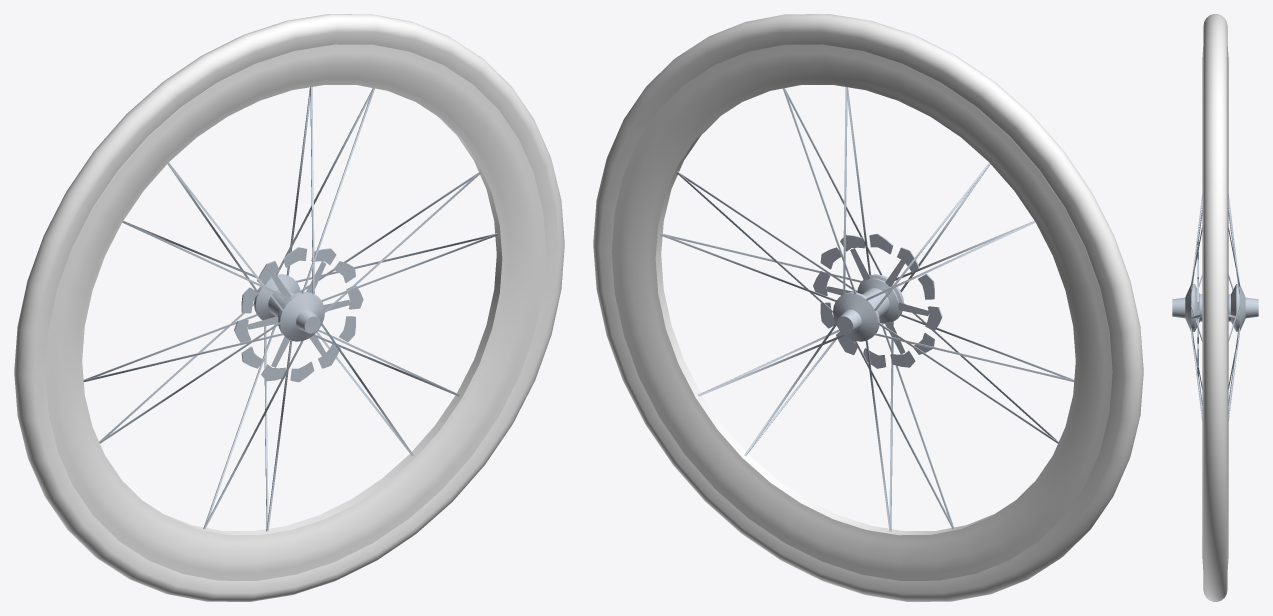
The model's file is wheel_50mm.glb.
3 views of the same model, side by side, from view 1: azimuth 30°, elevation 25°; view 2: azimuth 150°, elevation 25°; view 3: azimuth 270°, elevation 25° (orthographic). The views are drawn at different scales.
Parts seen in each view (by area): view 1: wheel_50mm; view 2: wheel_50mm; view 3: wheel_50mm.
Part boxes in pixels (box(x1,y1,x2,y2)): wheel_50mm: box(14, 14, 564, 601); wheel_50mm: box(593, 14, 1143, 601); wheel_50mm: box(1172, 14, 1258, 601).
Bounding box in the file's own units: 0.6796 × 0.6796 × 0.1.
